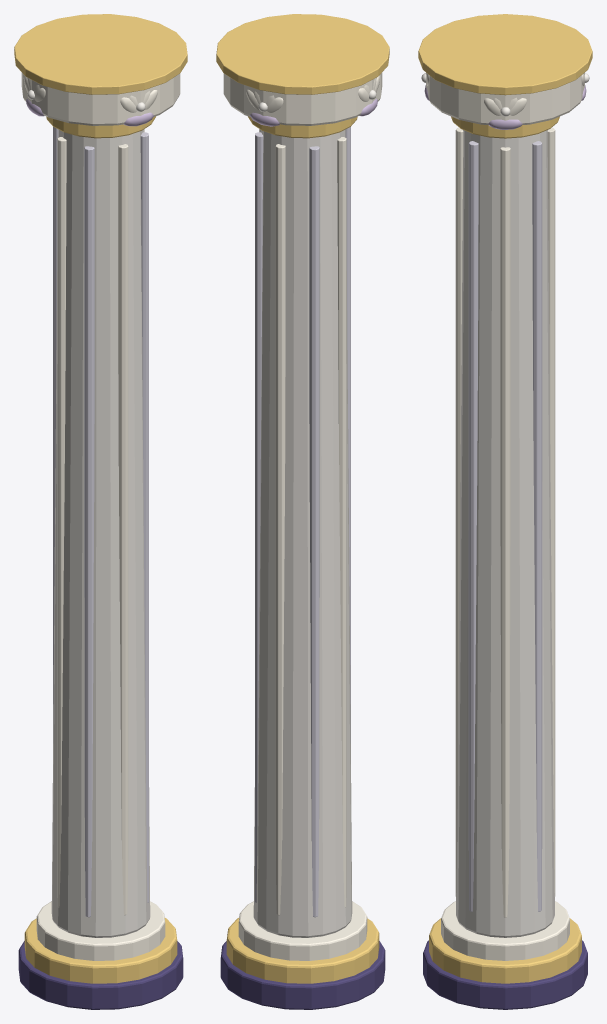
Rendered from pearl_column.glb.
The picture shows the model from 3 angles, left to right: view 1: azimuth 30°, elevation 25°; view 2: azimuth 150°, elevation 25°; view 3: azimuth 270°, elevation 25°; orthographic projection.
Parts seen in each view (by area): view 1: pearl_column.001; view 2: pearl_column.001; view 3: pearl_column.001.
Boxes of the visible parts, bbox=[...] form: pearl_column.001: bbox=[14, 14, 187, 1009]; pearl_column.001: bbox=[216, 14, 389, 1009]; pearl_column.001: bbox=[418, 14, 592, 1009].
Bounding box in the file's own units: 5.8 × 34 × 5.8.
